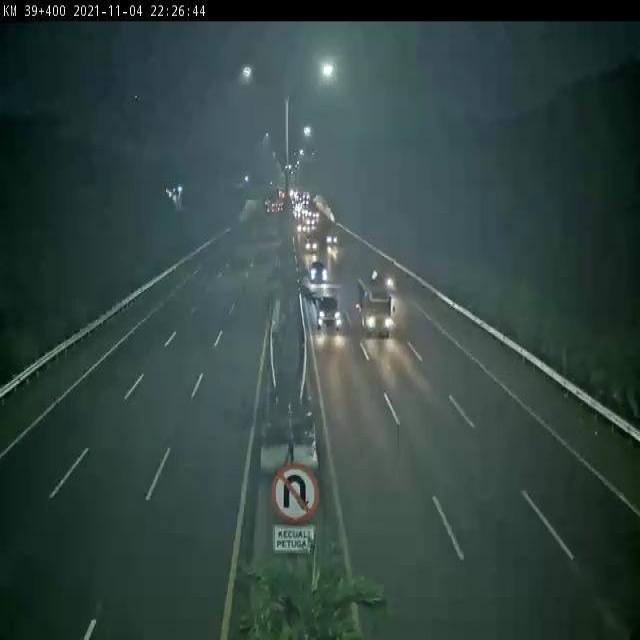bus-s-: (351, 273, 402, 339)
car: (314, 293, 347, 335), (371, 257, 402, 295), (307, 257, 333, 284), (302, 235, 324, 257), (323, 227, 343, 248), (296, 220, 308, 233)
